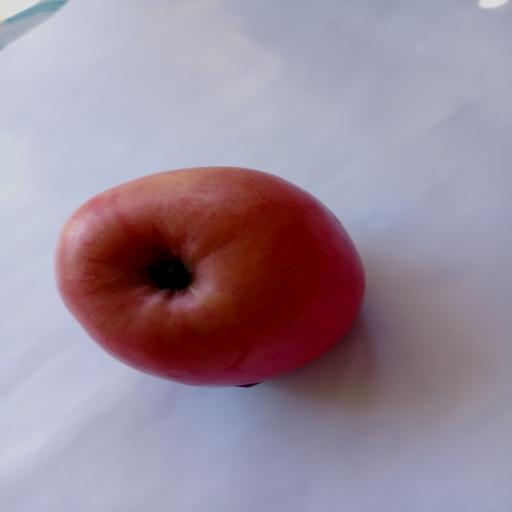apple-ripe: (42, 161, 397, 391)
